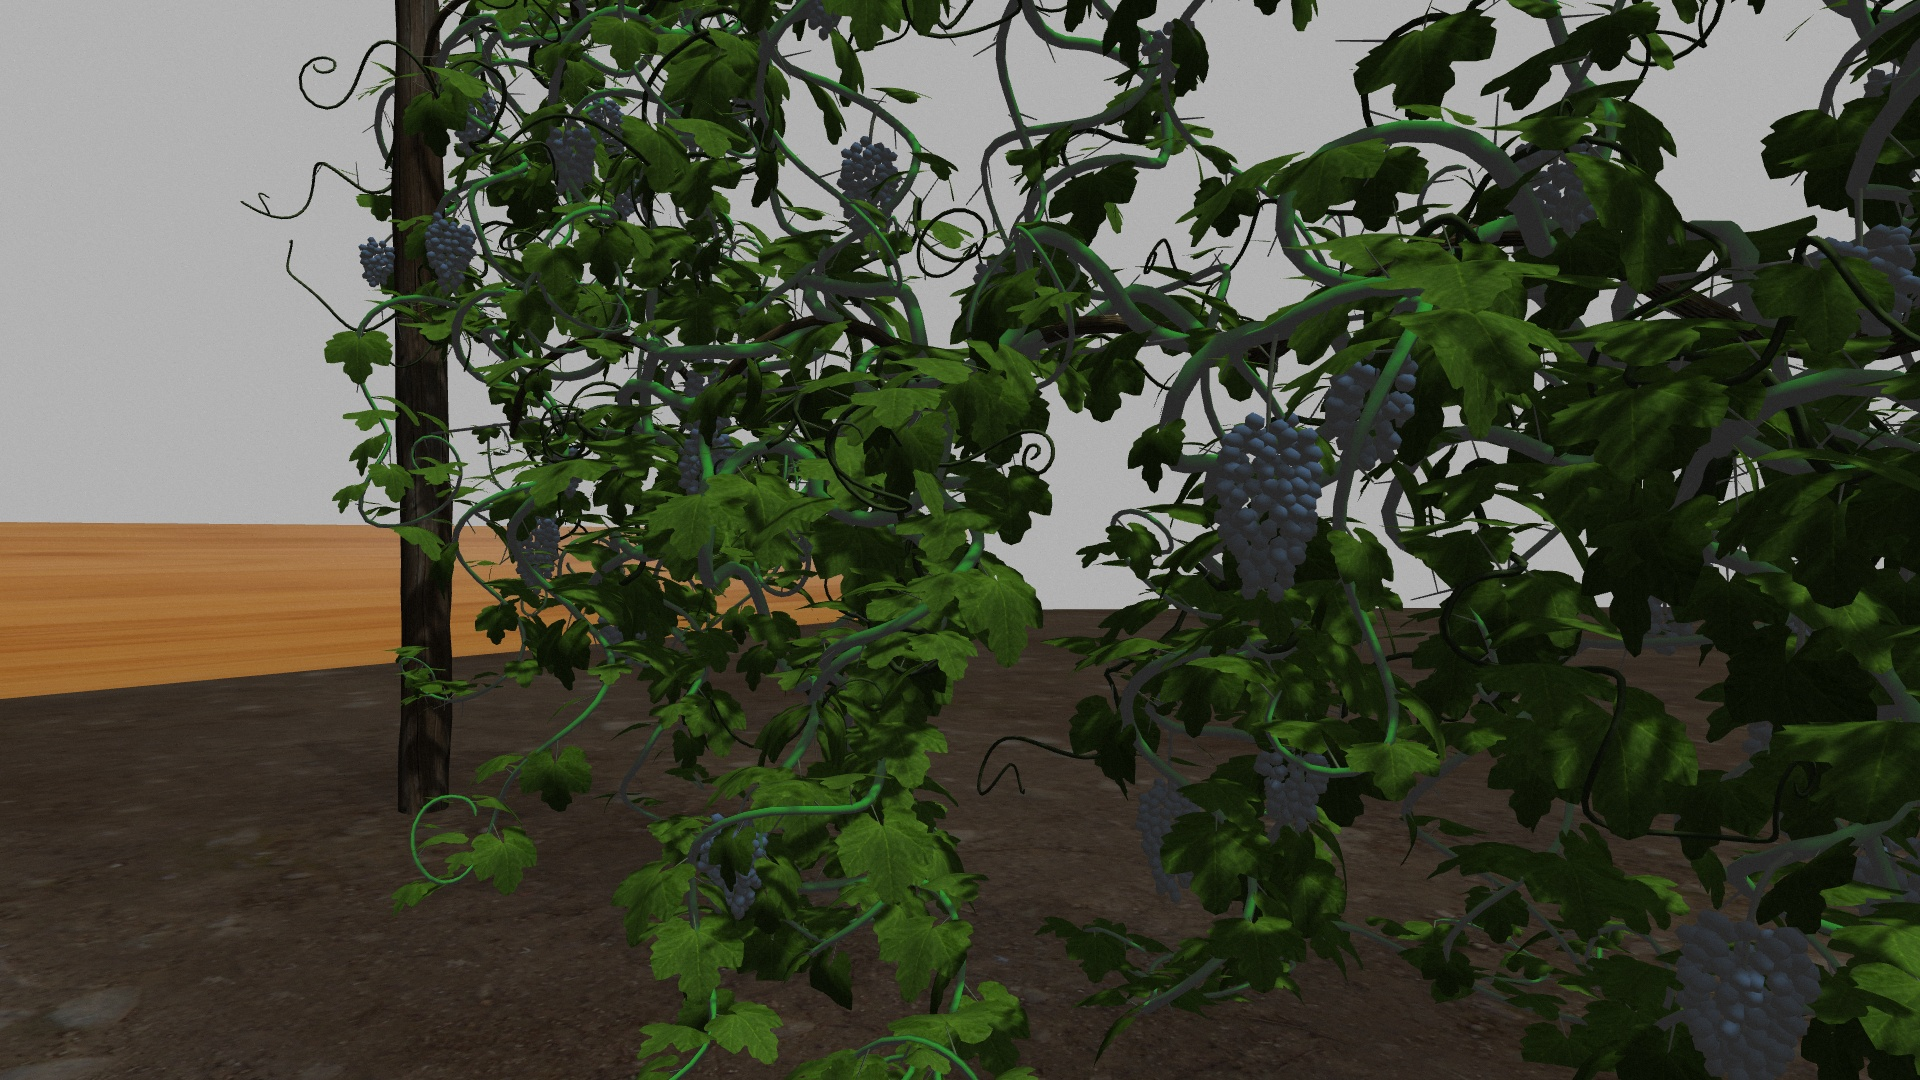grape: (1669, 914, 1822, 1069), (1215, 415, 1321, 597), (1323, 357, 1418, 469), (1135, 778, 1207, 913), (1254, 744, 1331, 840), (835, 136, 903, 233), (422, 218, 483, 291), (543, 127, 597, 200), (510, 518, 559, 593), (353, 236, 397, 301)
